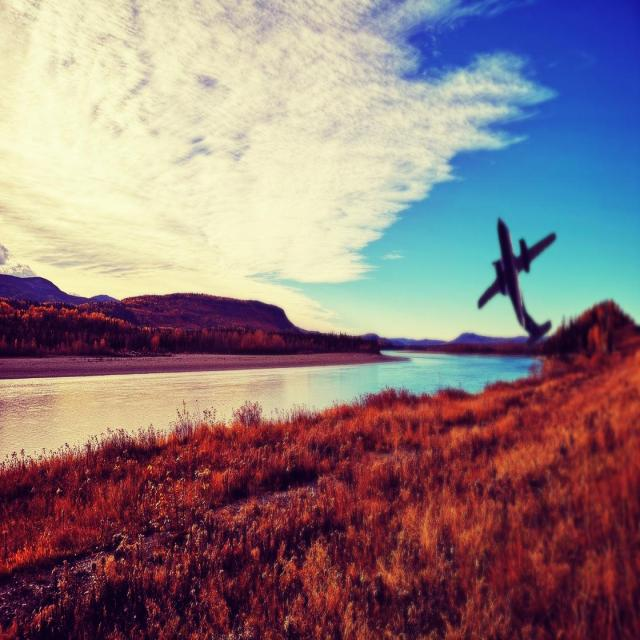airplane: (477, 217, 556, 346)
